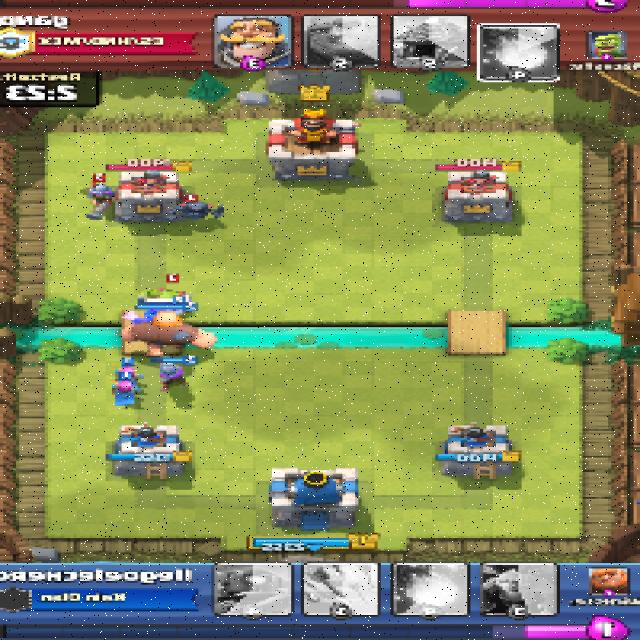Enemy-MiniPEKKA: (171, 202, 228, 218)
Enemy-Musketeer: (86, 184, 113, 218)
Player-Archer: (109, 383, 142, 406), (122, 366, 139, 380)
Player-Giant: (121, 311, 221, 354)
Player-GoblinCage: (147, 288, 187, 302)
Player-Musketeer: (155, 357, 194, 388)
